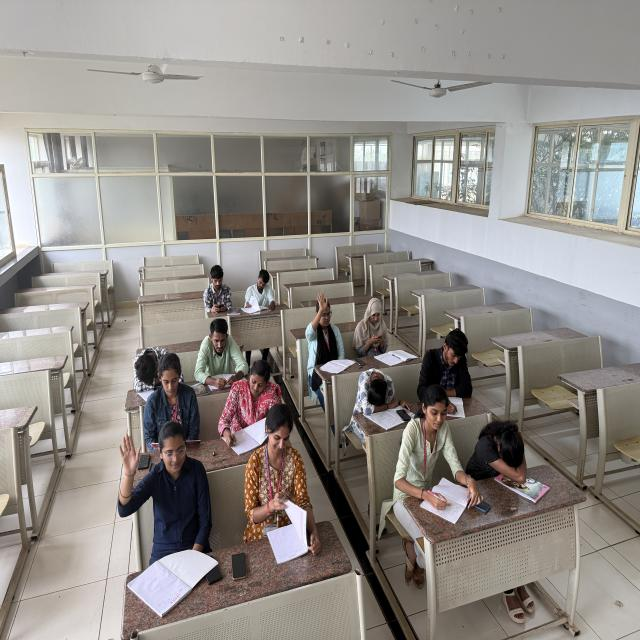Hand Rising: (110, 418, 216, 573), (302, 287, 347, 378)
Reading: (236, 403, 322, 573), (140, 350, 200, 449), (193, 318, 251, 396), (243, 268, 278, 314)
Sleeping: (467, 413, 537, 500), (347, 365, 405, 430), (123, 341, 165, 401)
Using Phone: (353, 294, 393, 358), (202, 264, 235, 318)
Writing: (394, 382, 475, 526), (214, 356, 280, 458), (416, 326, 472, 418)
